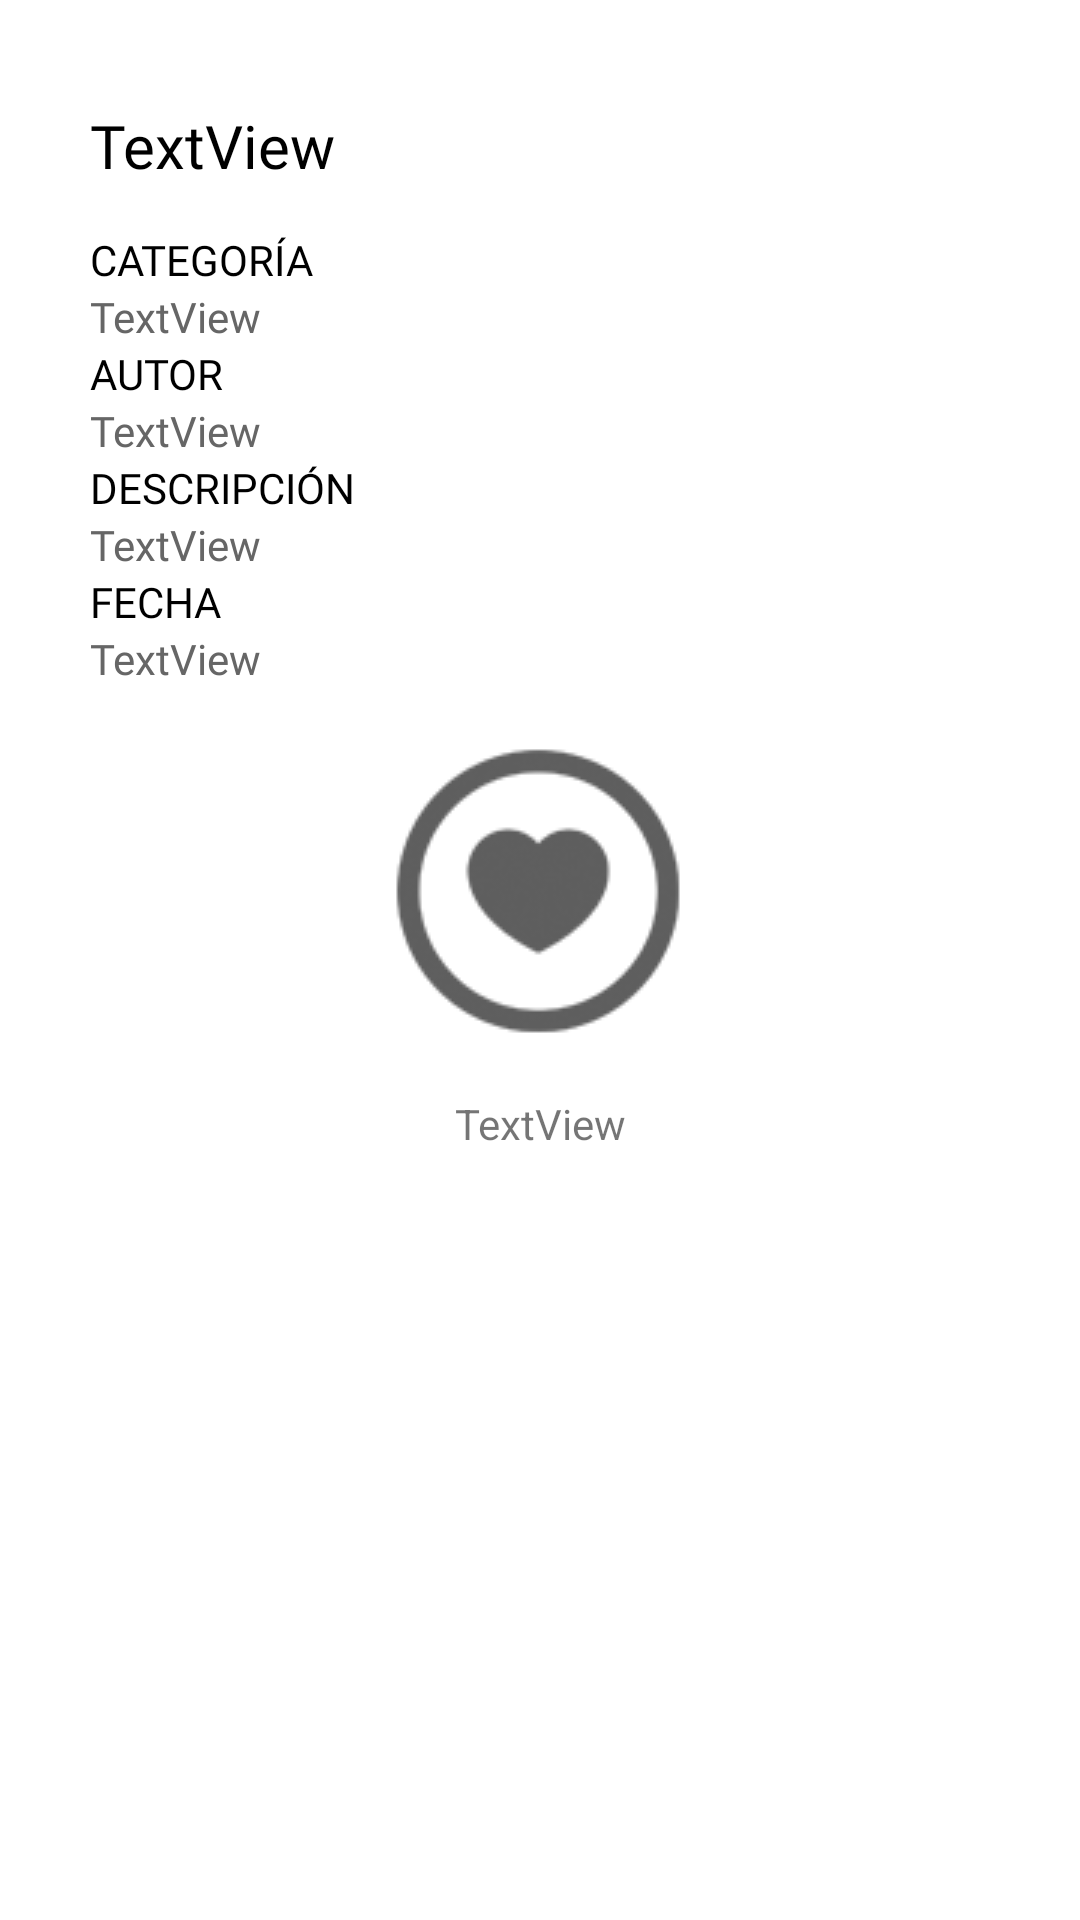

Named icons in this screenshot (1080*1920) and their bounding boxes, BBox(x1, y1, x2, y2):
buttonlike: BBox(396, 749, 680, 1033)
